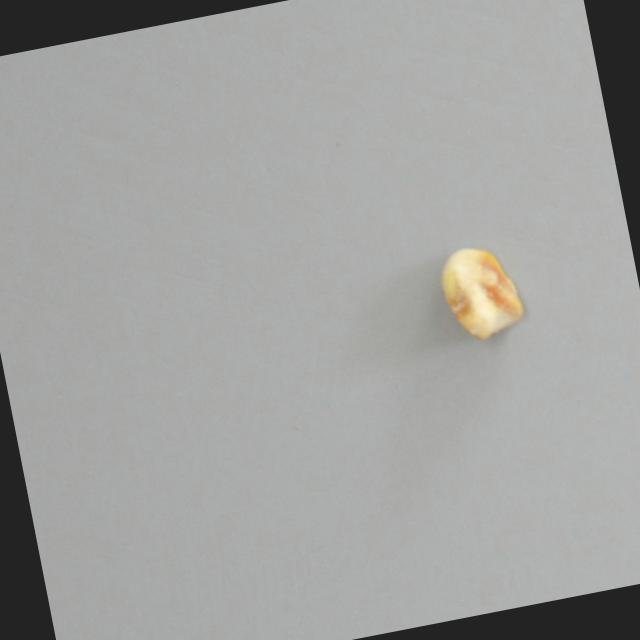dañado: (427, 229, 536, 358)
